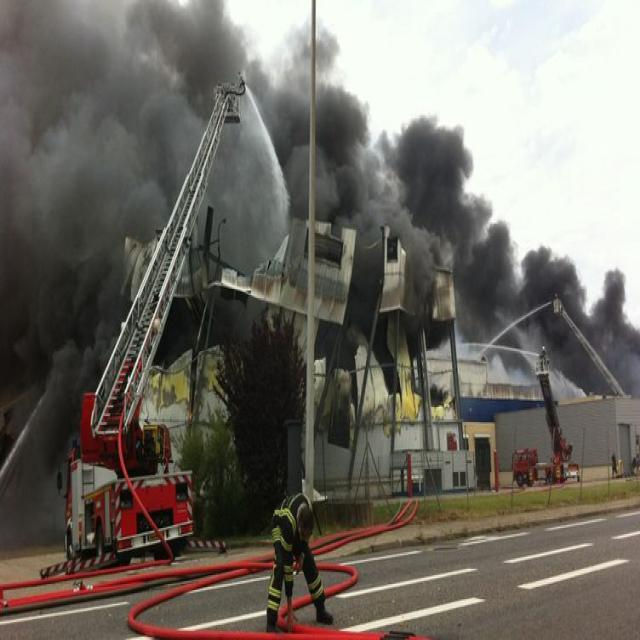Smoke: (3, 7, 133, 302), (405, 126, 467, 240), (134, 66, 192, 162), (321, 105, 369, 218), (529, 258, 581, 352), (608, 322, 640, 392)
